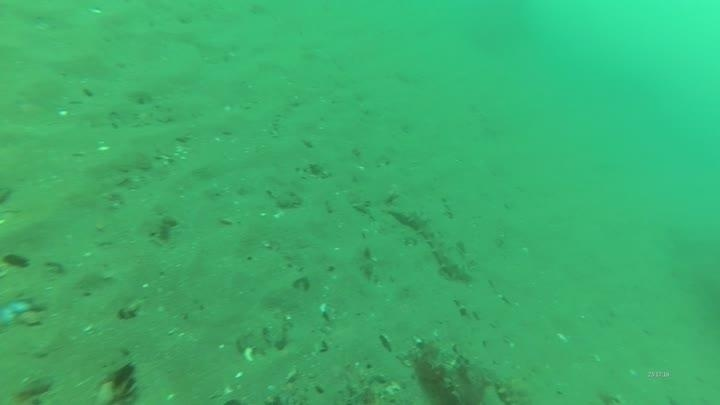holothurian: (386, 202, 478, 284)
